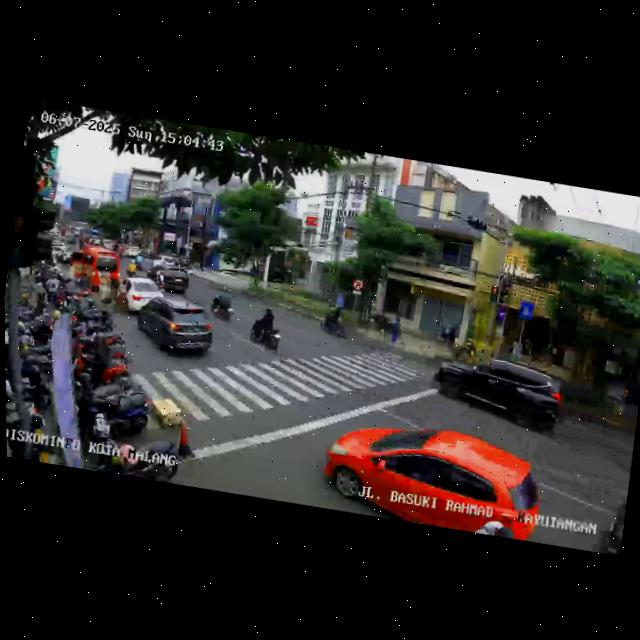car: (321, 413, 550, 543), (429, 349, 569, 438), (132, 297, 219, 364), (63, 245, 119, 297), (113, 274, 168, 318), (147, 259, 191, 297)
motorcycle: (245, 305, 286, 355), (317, 303, 353, 342), (208, 286, 239, 321)
